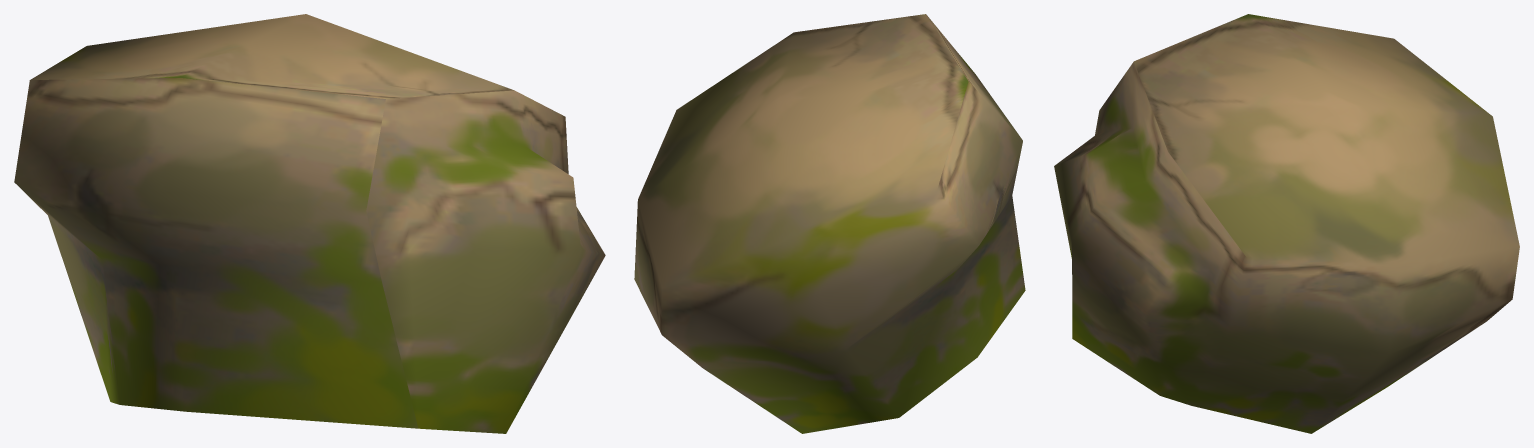
The model's file is sences_changbanpo_shitou003.FBX.
The picture shows the model from 3 angles, left to right: view 1: azimuth 30°, elevation 25°; view 2: azimuth 150°, elevation 25°; view 3: azimuth 270°, elevation 25°; orthographic projection. The views are drawn at different scales.
Parts seen in each view (by area): view 1: sences_changbanpo_shitou003; view 2: sences_changbanpo_shitou003; view 3: sences_changbanpo_shitou003.
Boxes of the visible parts, <box> form: sences_changbanpo_shitou003: <box>14,14,605,433</box>; sences_changbanpo_shitou003: <box>634,14,1025,433</box>; sences_changbanpo_shitou003: <box>1054,14,1519,433</box>.
Size of the model in its own units: 2.13 by 2.37 by 1.86.
